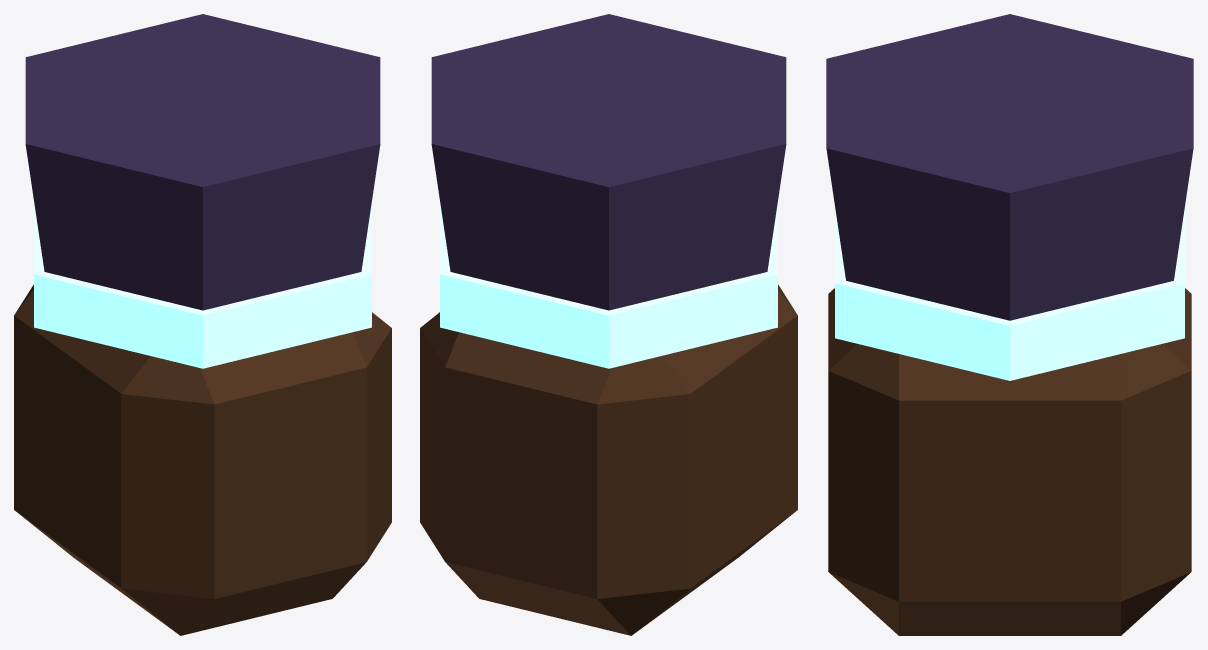
File: rune_grips.glb
3 renders of one model, left to right at view 1: azimuth 30°, elevation 25°; view 2: azimuth 150°, elevation 25°; view 3: azimuth 270°, elevation 25°, orthographic. The views are drawn at different scales.
Visible parts, largest first — view 1: rune_grips; view 2: rune_grips; view 3: rune_grips.
Boxes of the visible parts, <box> form: rune_grips: <box>14,14,391,635</box>; rune_grips: <box>420,14,797,635</box>; rune_grips: <box>826,14,1193,635</box>.
Bounding box in the file's own units: 0.21 × 0.27 × 0.1819.
